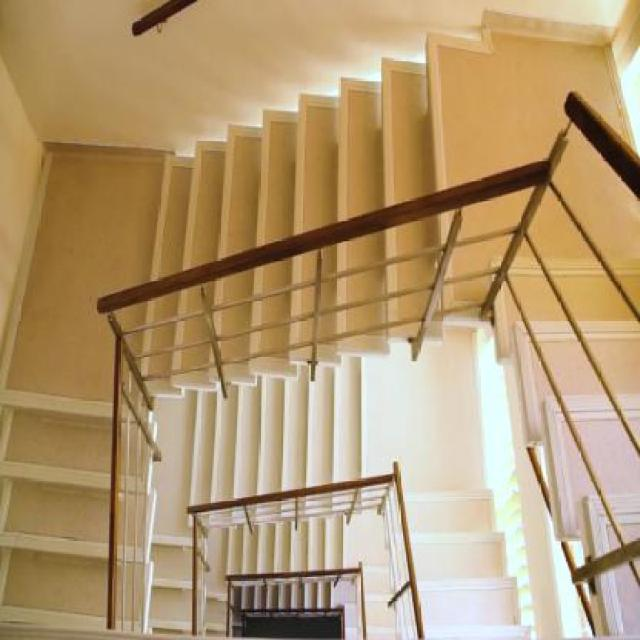stair: (144, 0, 638, 388), (1, 392, 161, 638), (181, 354, 364, 518), (368, 484, 529, 638)
